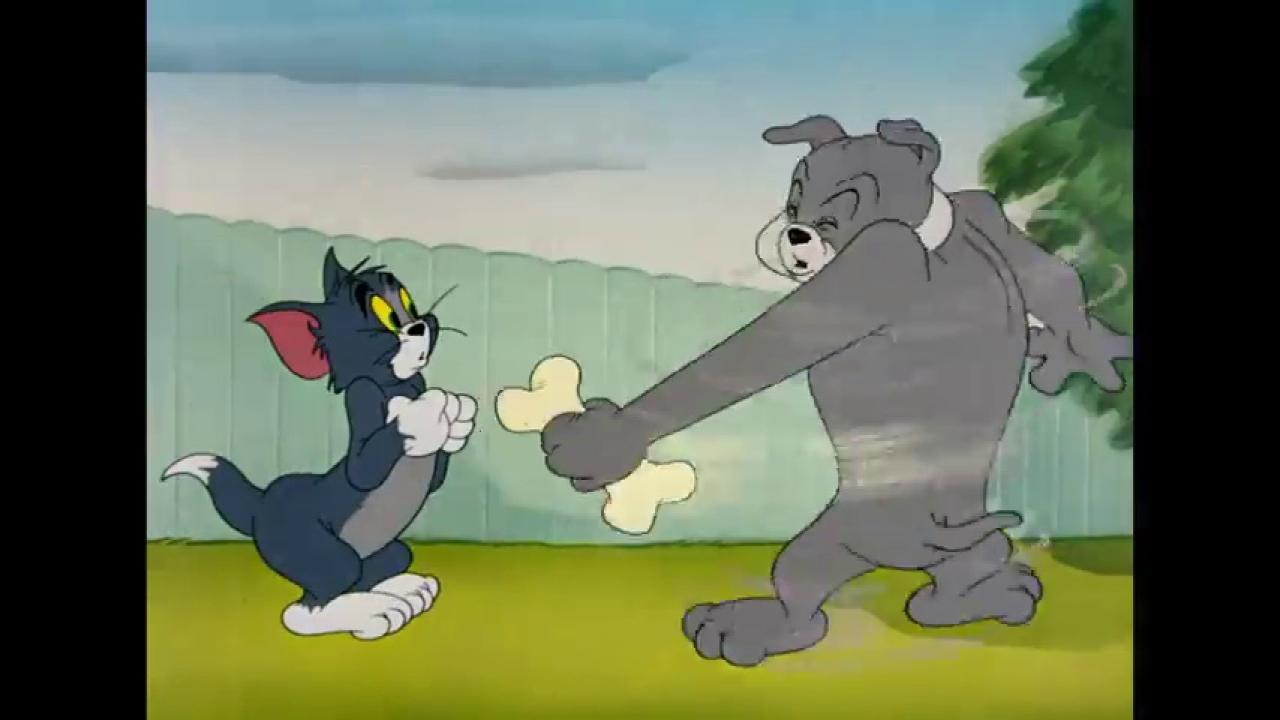Tom: (159, 243, 479, 642)
